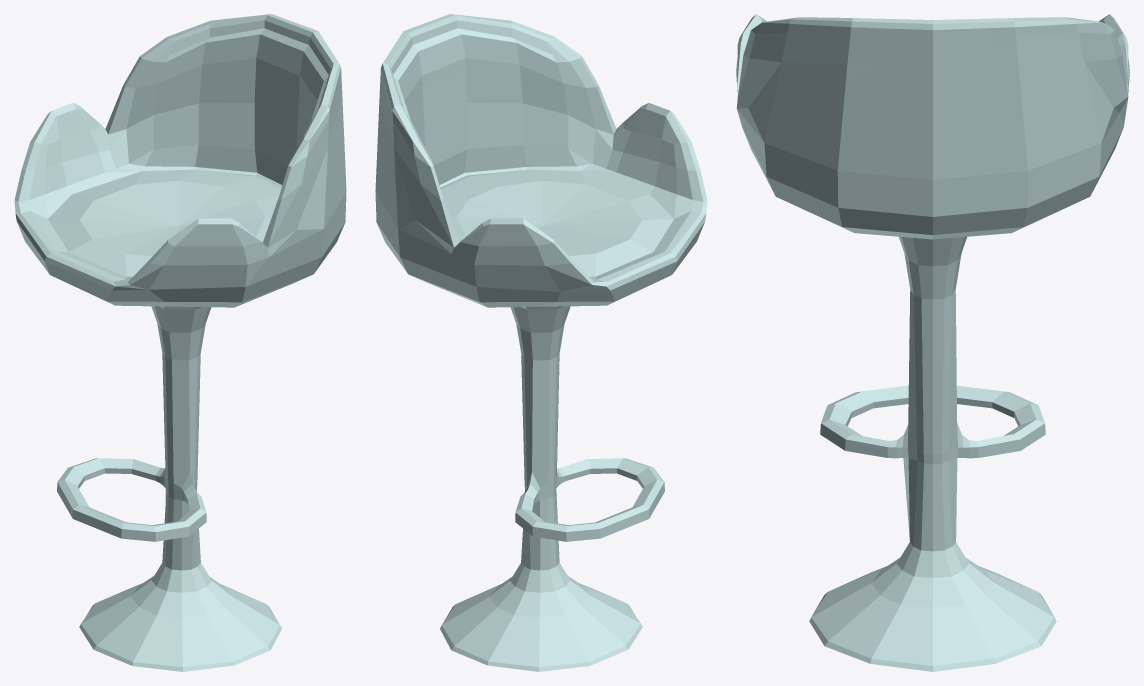
File: bar-chair.fbx
3 renders of one model, left to right at view 1: azimuth 30°, elevation 25°; view 2: azimuth 150°, elevation 25°; view 3: azimuth 270°, elevation 25°, orthographic. The views are drawn at different scales.
Visible parts, largest first — view 1: bar-chair-low; view 2: bar-chair-low; view 3: bar-chair-low.
Boxes of the visible parts, <box> form: bar-chair-low: <box>14,14,346,671</box>; bar-chair-low: <box>375,14,707,671</box>; bar-chair-low: <box>736,14,1129,671</box>.
Bounding box in the file's own units: 70.79 × 137 × 72.14.
